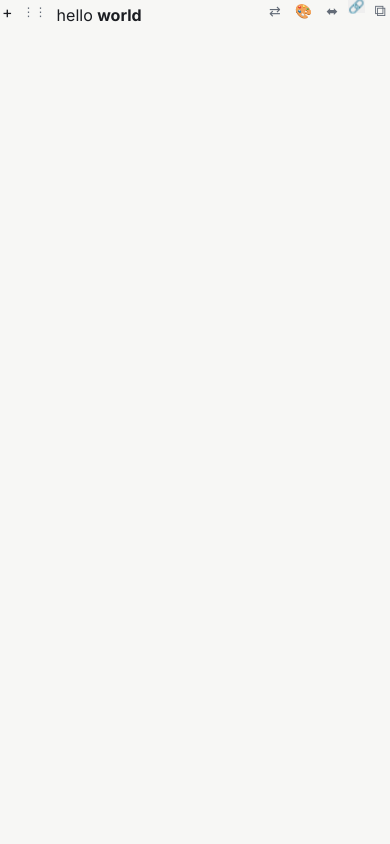
it: BlockRow › shows a formatted preview for a block with inline markup, editable on click
# Clicking the preview switches to the editable textarea.
Click the text "world": (119, 15) [97,5,142,25]
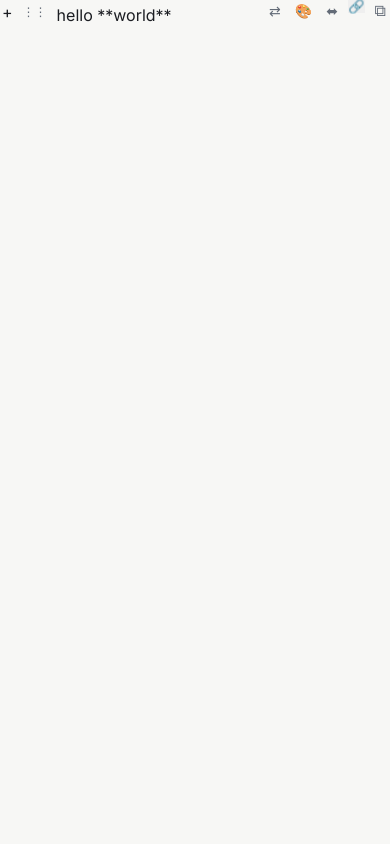
Now the text box named "Block content" holds "hello **world**", box [55,0,259,31]
